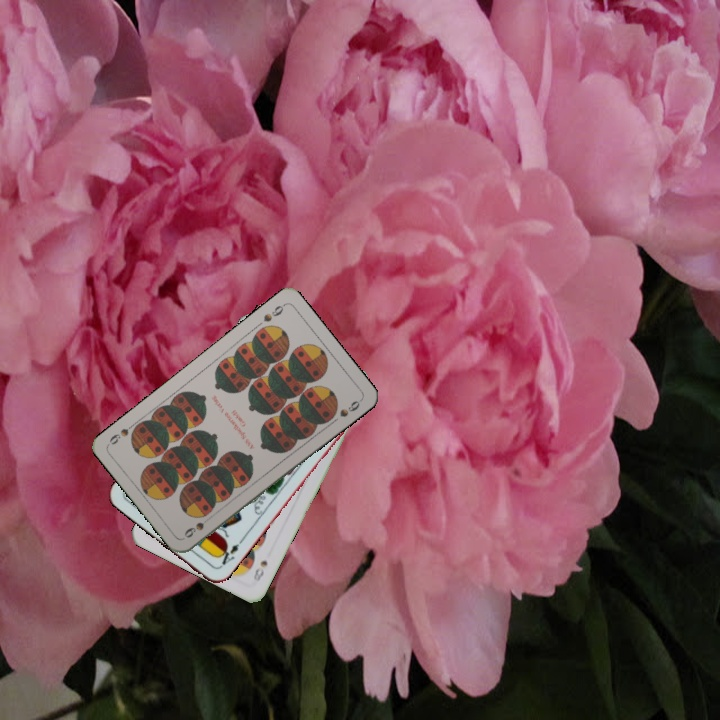EA: (213, 536, 245, 571)
S8: (249, 556, 270, 584)
S9: (180, 511, 215, 541), (259, 300, 288, 324)
